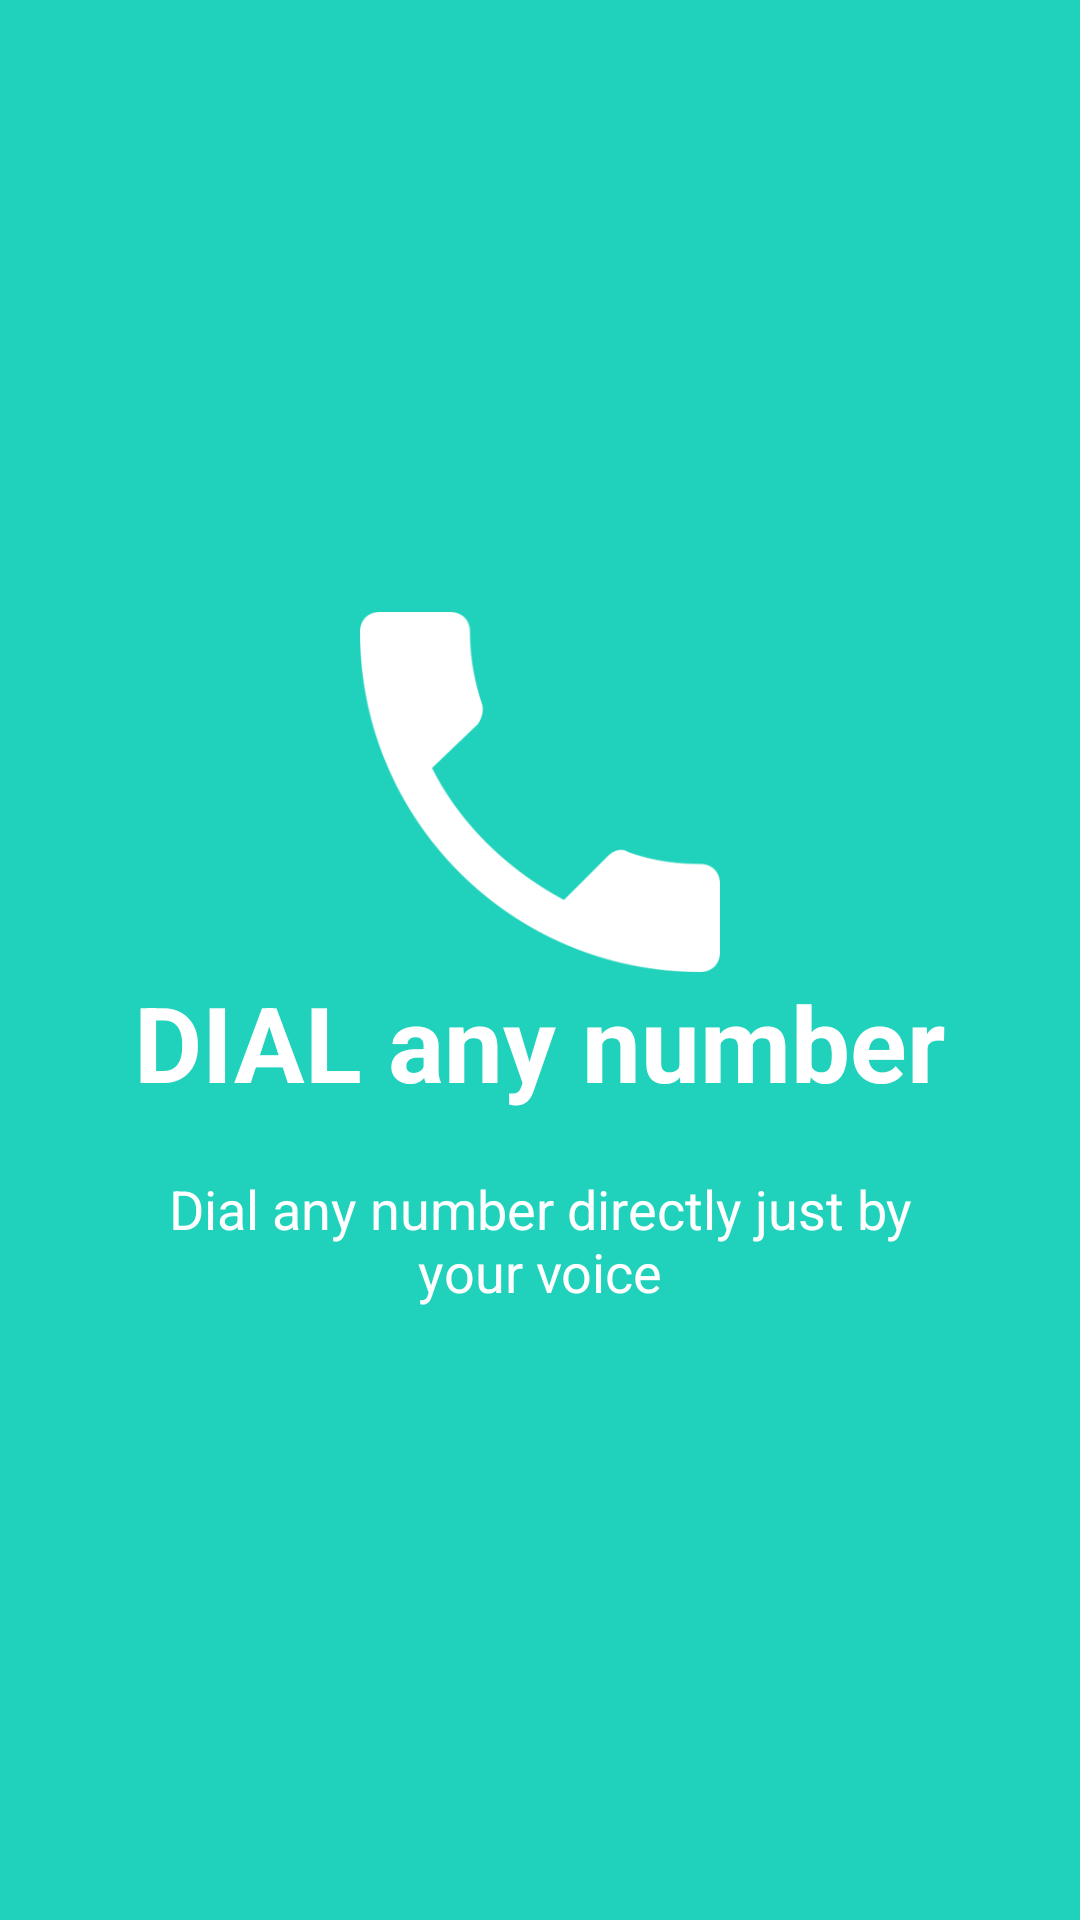

Icon click points for this 1080w x 1920h phone screenshot, format (x=x, y=y):
call: (x=540, y=792)
